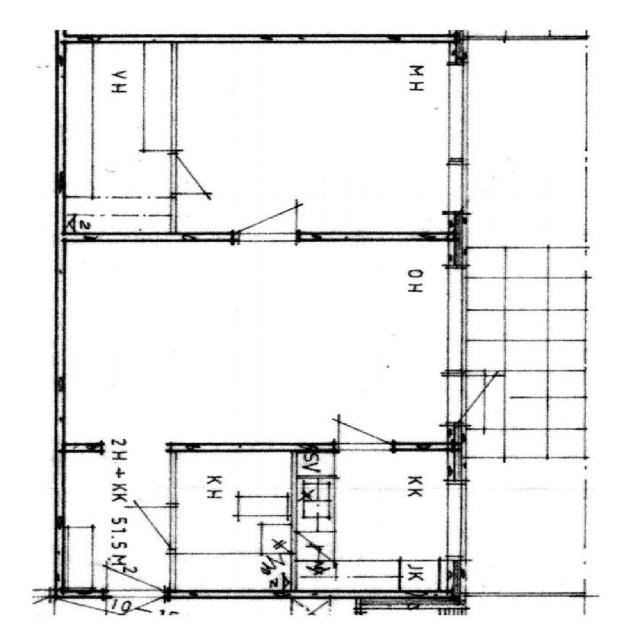door: (448, 375, 527, 423), (238, 186, 296, 241), (106, 545, 164, 599), (338, 400, 394, 452), (106, 589, 163, 640), (116, 507, 176, 549), (170, 153, 229, 194)
